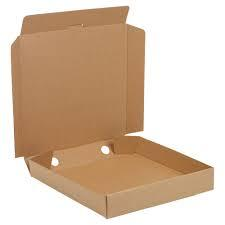Cardboard: (2, 8, 225, 225)
